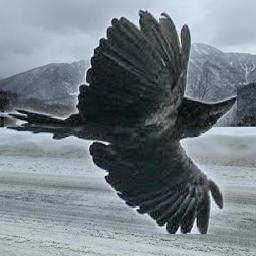Crow: (5, 8, 238, 234)
